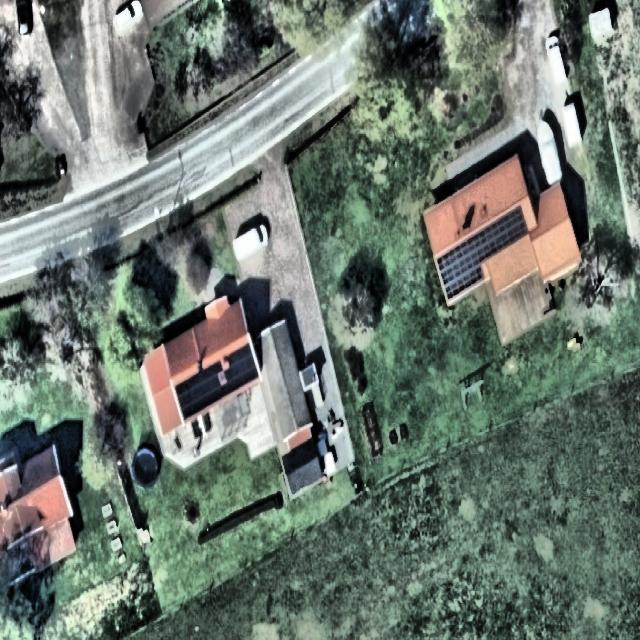roof_pv: (434, 230, 484, 302), (478, 202, 533, 262), (218, 341, 260, 407), (175, 360, 222, 416)
